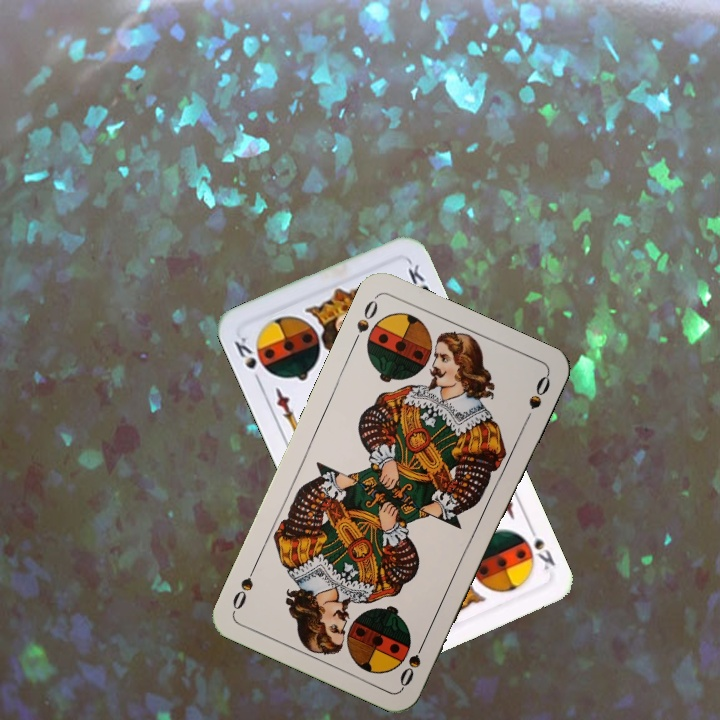SK: (230, 332, 271, 388), (516, 520, 558, 573)
SO: (395, 634, 429, 690), (348, 293, 381, 349)
